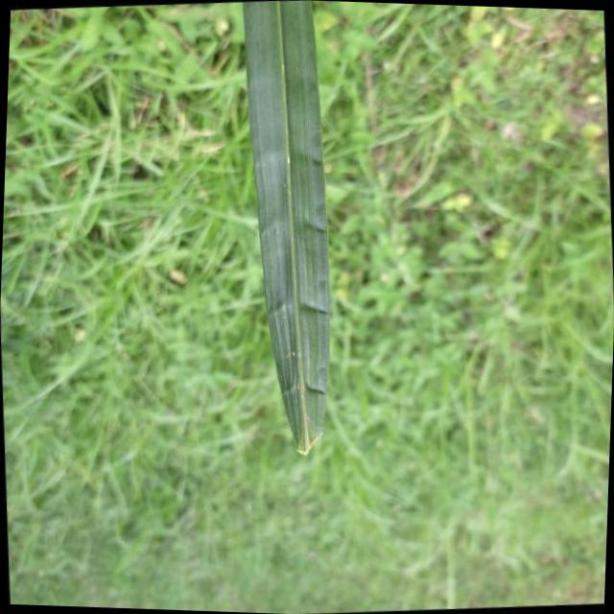Boron: (238, 0, 336, 456)
